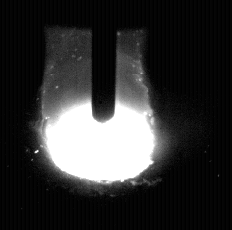arame: (92, 0, 117, 124)
poca: (43, 0, 155, 230)
